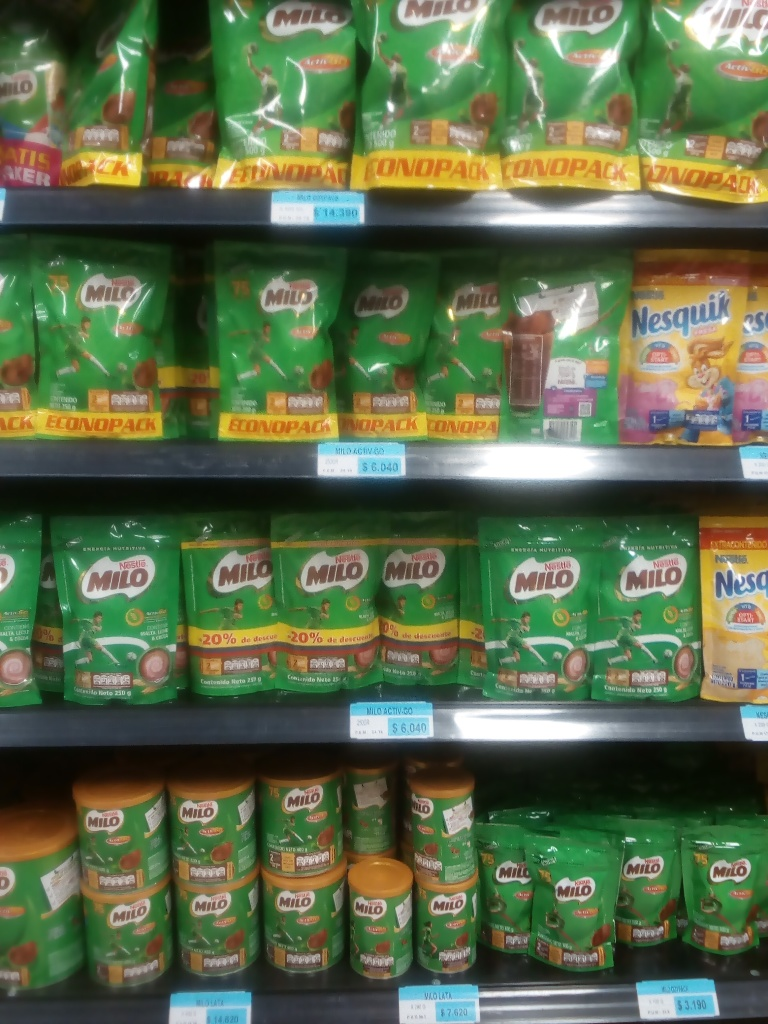COL0170203DYP10000: (471, 820, 531, 957)
COL0170203DYP50000: (64, 0, 164, 190)
COL0170203LAT20000: (411, 770, 476, 889)
COL0170203LAT40000: (168, 773, 258, 887)
